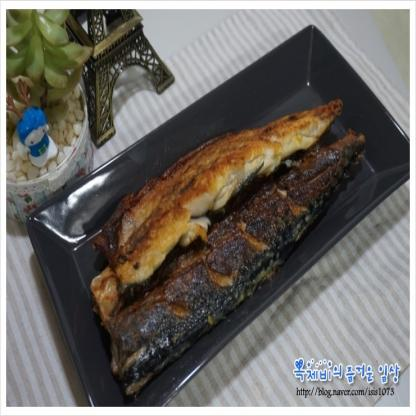Peixe: (77, 86, 367, 408)
